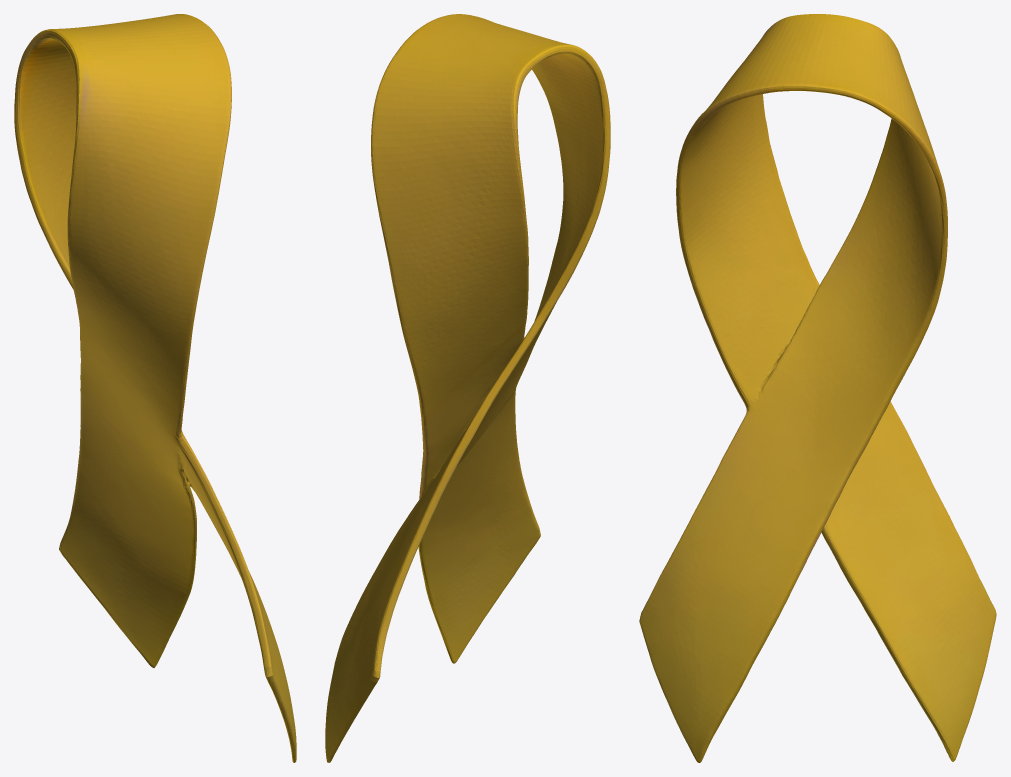
Rendered from life.glb.
The picture shows the model from 3 angles, left to right: view 1: azimuth 30°, elevation 25°; view 2: azimuth 150°, elevation 25°; view 3: azimuth 270°, elevation 25°; orthographic projection. The views are drawn at different scales.
Visible parts, largest first — view 1: tripo_node_ae589296-c4ad-4893-b4d5-949398264a21; view 2: tripo_node_ae589296-c4ad-4893-b4d5-949398264a21; view 3: tripo_node_ae589296-c4ad-4893-b4d5-949398264a21.
Part boxes in pixels (left/top/right/bottom): tripo_node_ae589296-c4ad-4893-b4d5-949398264a21: left=14, top=14, right=296, bottom=762; tripo_node_ae589296-c4ad-4893-b4d5-949398264a21: left=325, top=14, right=610, bottom=762; tripo_node_ae589296-c4ad-4893-b4d5-949398264a21: left=639, top=14, right=996, bottom=762.
Bounding box in the file's own units: 0.2909 × 0.9974 × 0.4772.
1 material, 1 textured.
